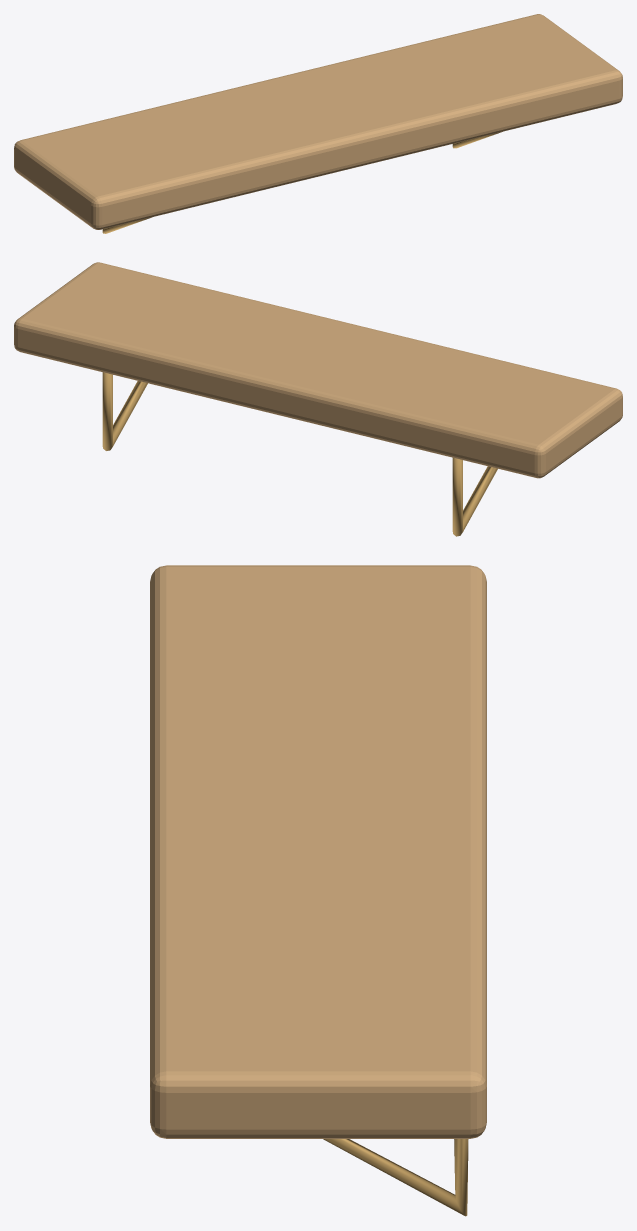
File: Wall_Shelf.glb
3 renders of one model, top to bottom at view 1: azimuth 30°, elevation 25°; view 2: azimuth 150°, elevation 25°; view 3: azimuth 270°, elevation 25°, orthographic. The views are drawn at different scales.
Visible parts, largest first — view 1: Wall_Shelf_Mesh; view 2: Wall_Shelf_Mesh; view 3: Wall_Shelf_Mesh.
Part boxes in pixels (x1,y1,x2,y2): Wall_Shelf_Mesh: [14, 14, 622, 233]; Wall_Shelf_Mesh: [14, 262, 622, 536]; Wall_Shelf_Mesh: [150, 565, 486, 1216].
Bounding box in the file's own units: 0.91 × 0.1848 × 0.25.
